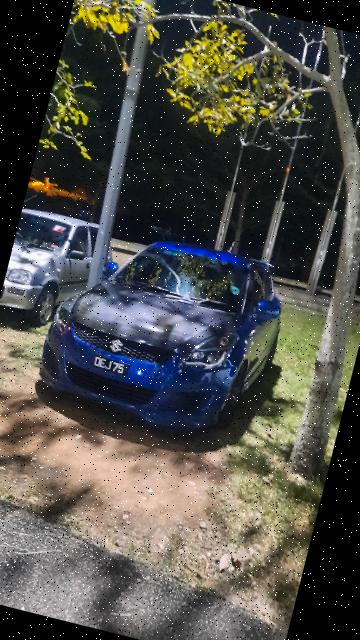License_Plate: (87, 352, 133, 381)
car: (28, 208, 301, 456)
